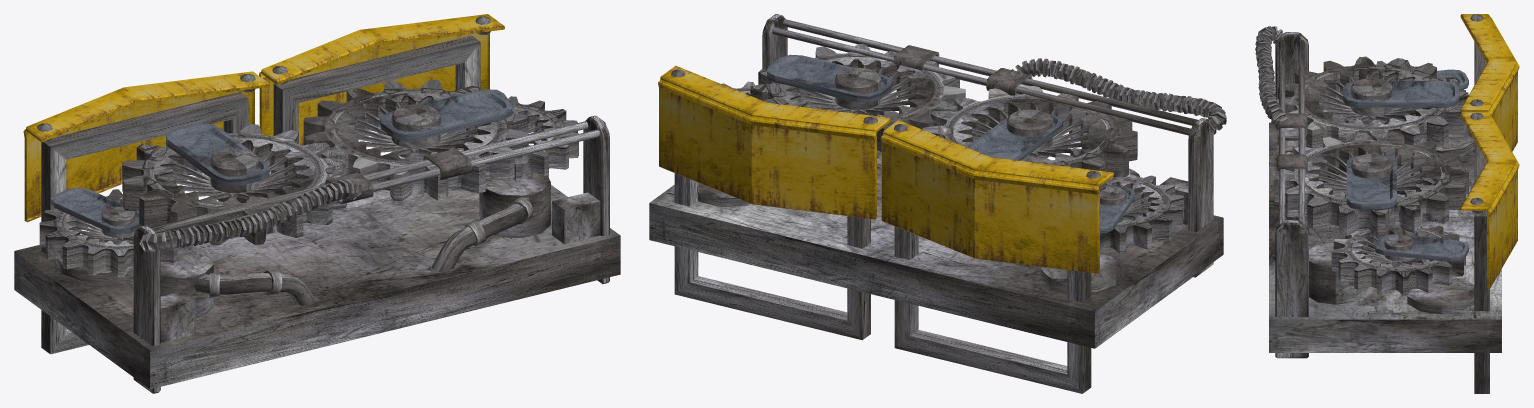
Rendered from static.fbx.
3 renders of one model, left to right at view 1: azimuth 30°, elevation 25°; view 2: azimuth 150°, elevation 25°; view 3: azimuth 270°, elevation 25°, orthographic. The views are drawn at different scales.
Visible parts, largest first — view 1: Cube, Cube_65, Sweep_5, Extrude_remesh, Extrude_remesh_2, Extrude_remesh_3, Cube_43, Cylinder_1_3_2, Sweep_4, Cube_1, Extrude_6, Extrude_3 (+16 smaller); view 2: Cube_65, Cube, Sweep_5, Extrude_remesh_2, Cube_43, Extrude_6, Extrude_remesh, Extrude_remesh_3, Extrude, Cylinder_1, Cylinder, Extrude_3 (+9 smaller); view 3: Cube, Cube_65, Extrude_remesh, Extrude_remesh_2, Cube_43, Extrude_remesh_3, Extrude_3, Sweep_5, Extrude_6, Cylinder_4, Extrude_5, Cylinder_1_3_2 (+11 smaller).
Boxes of the visible parts, x1,y1,x2,y2 form: Cube: [14, 156, 620, 389]; Cube_65: [23, 14, 504, 222]; Sweep_5: [41, 35, 480, 354]; Extrude_remesh: [303, 79, 528, 201]; Extrude_remesh_2: [122, 124, 346, 245]; Extrude_remesh_3: [39, 96, 578, 277]; Cube_43: [133, 115, 609, 393]; Cylinder_1_3_2: [160, 172, 550, 317]; Sweep_4: [194, 197, 532, 305]; Cube_1: [160, 192, 600, 342]; Extrude_6: [153, 137, 315, 205]; Extrude_3: [335, 93, 497, 161]; Cube_65: [658, 65, 1113, 273]; Cube: [649, 150, 1223, 348]; Sweep_5: [674, 173, 1091, 393]; Extrude_remesh_2: [922, 86, 1137, 190]; Cube_43: [762, 14, 1213, 277]; Extrude_6: [953, 99, 1106, 163]; Extrude_remesh: [750, 44, 965, 152]; Extrude_remesh_3: [722, 81, 1183, 253]; Extrude: [767, 54, 892, 102]; Cylinder_1: [783, 19, 1210, 129]; Cylinder: [763, 26, 1201, 137]; Extrude_3: [781, 57, 934, 118]; Cube: [1269, 122, 1501, 352]; Cube_65: [1460, 14, 1519, 288]; Extrude_remesh: [1274, 132, 1468, 237]; Extrude_remesh_2: [1275, 56, 1468, 149]; Cube_43: [1275, 32, 1308, 358]; Extrude_remesh_3: [1331, 60, 1465, 295]; Extrude_3: [1305, 144, 1441, 200]; Sweep_5: [1474, 41, 1489, 393]; Extrude_6: [1305, 68, 1436, 127]; Cylinder_4: [1407, 125, 1474, 314]; Extrude_5: [1343, 81, 1459, 107]; Cylinder_1_3_2: [1306, 106, 1365, 304].
Bounding box in the file's own units: 441 × 187 × 227.
3 materials, 3 textured.
